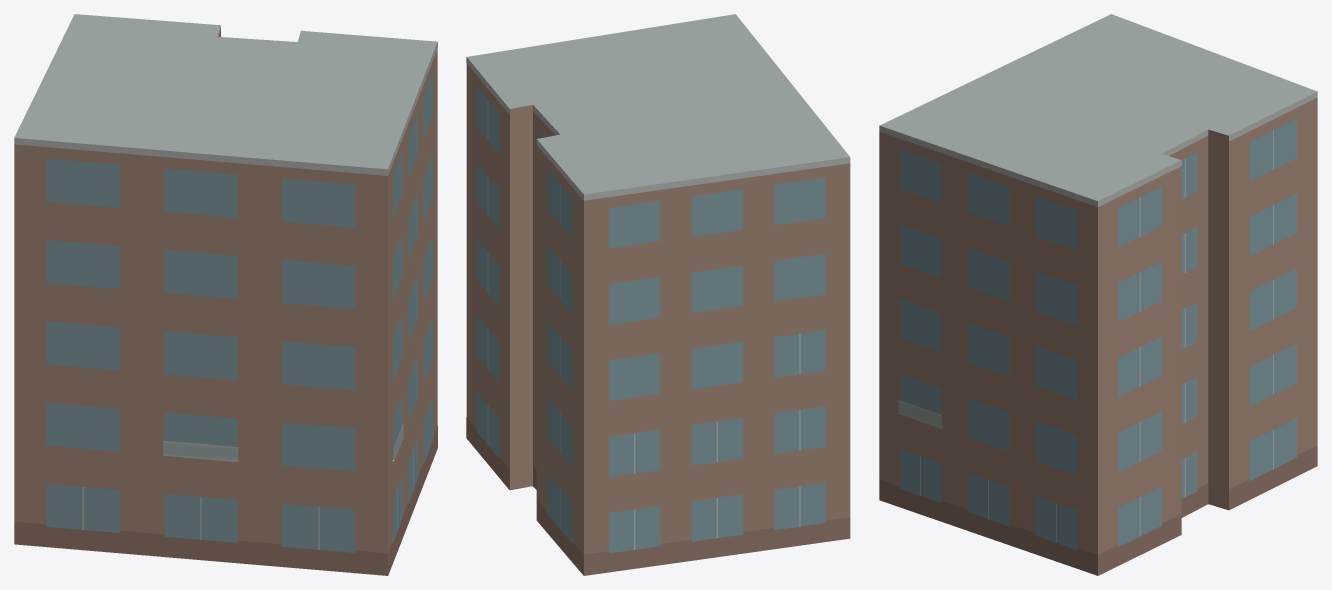
Rendered from survey-upis-32625659.glb.
3 views of the same model, side by side, from view 1: azimuth 30°, elevation 25°; view 2: azimuth 150°, elevation 25°; view 3: azimuth 270°, elevation 25° (orthographic). The views are drawn at different scales.
Parts seen in each view (by area): view 1: survey-upis-32625659.tmp; view 2: survey-upis-32625659.tmp; view 3: survey-upis-32625659.tmp.
Boxes of the visible parts, bbox=[...] form: survey-upis-32625659.tmp: bbox=[14, 14, 437, 575]; survey-upis-32625659.tmp: bbox=[466, 14, 850, 575]; survey-upis-32625659.tmp: bbox=[879, 14, 1317, 575].
Size of the model in its own units: 16.41 by 15.3 by 16.22.
